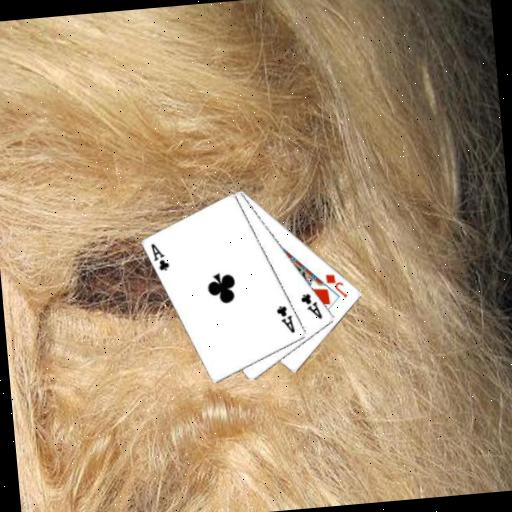AC: (297, 289, 325, 323), (273, 302, 297, 336), (148, 240, 172, 274)
JD: (323, 270, 350, 301)
